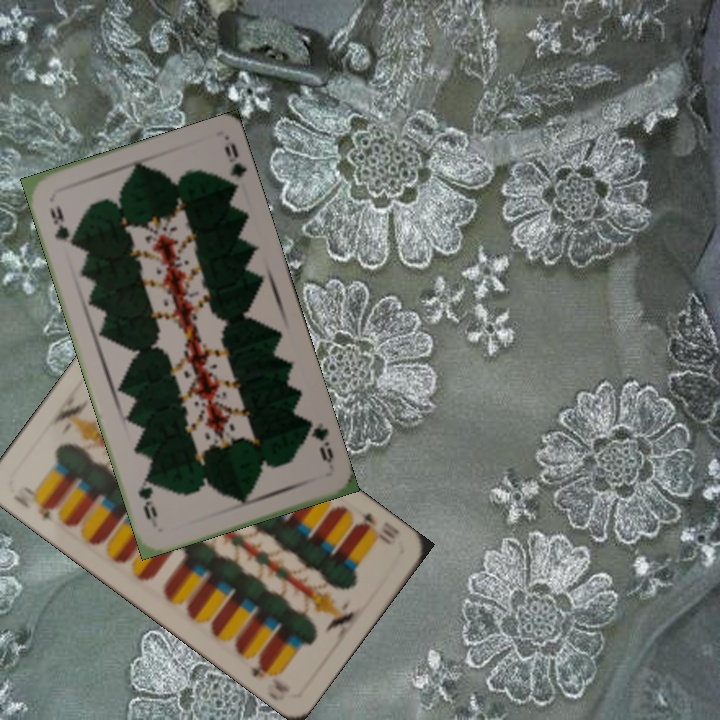E10: (351, 508, 403, 542), (24, 496, 60, 524)
G9: (303, 417, 336, 466), (45, 201, 77, 249)
